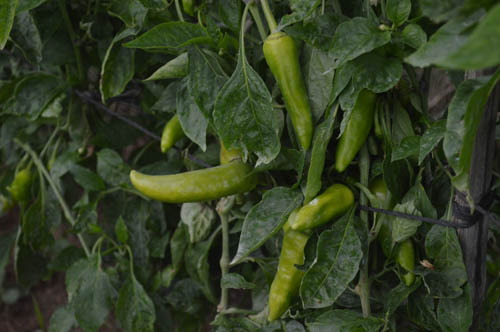ChiliPepper: (262, 36, 313, 146), (129, 164, 260, 202), (373, 182, 411, 278), (268, 229, 306, 318), (337, 89, 376, 175), (284, 185, 356, 231)
